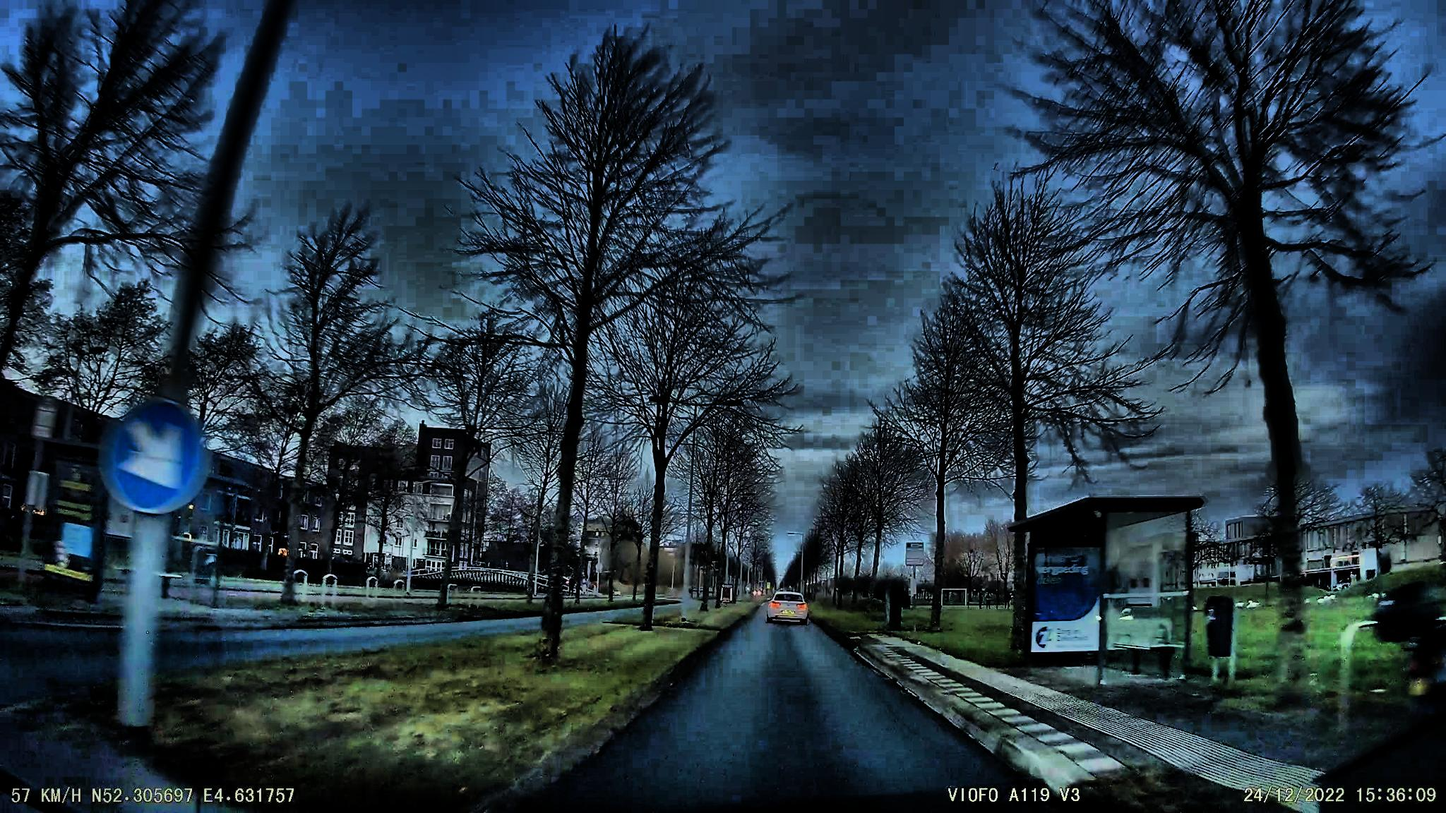Roads: (503, 616, 1109, 813)
